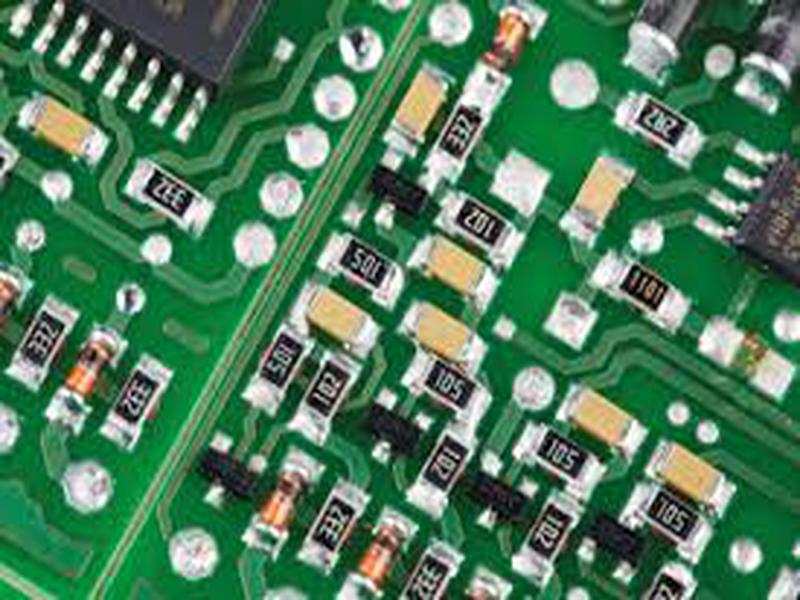SMD capacitor: (26, 95, 105, 170), (566, 384, 642, 455), (416, 235, 492, 306), (653, 439, 727, 510), (411, 301, 481, 369), (304, 286, 370, 351), (578, 153, 631, 230), (396, 64, 450, 137)
SMD resistor: (524, 426, 600, 495), (625, 93, 698, 164), (326, 235, 401, 304), (413, 360, 493, 421), (450, 190, 515, 261), (113, 356, 166, 443), (135, 166, 205, 230), (17, 305, 73, 380), (526, 492, 578, 572), (613, 260, 679, 323), (426, 426, 471, 511), (259, 324, 304, 393), (311, 361, 351, 436)
diode: (488, 4, 536, 71), (361, 520, 402, 595), (262, 469, 297, 532)
